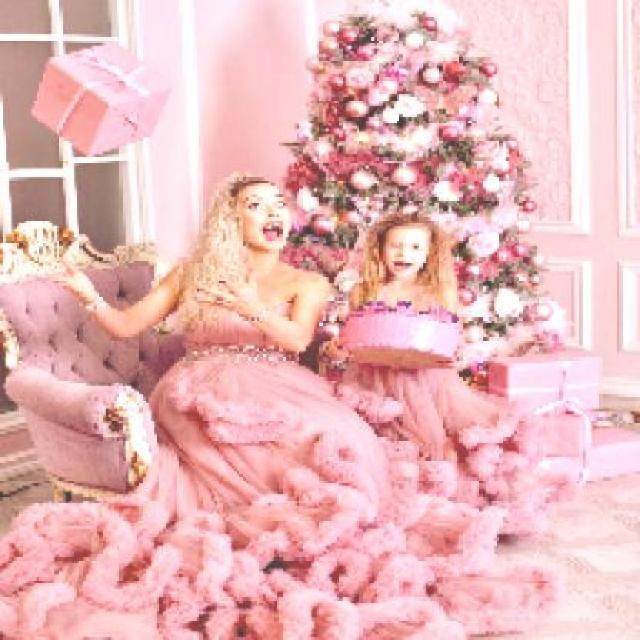child: (339, 213, 512, 462)
